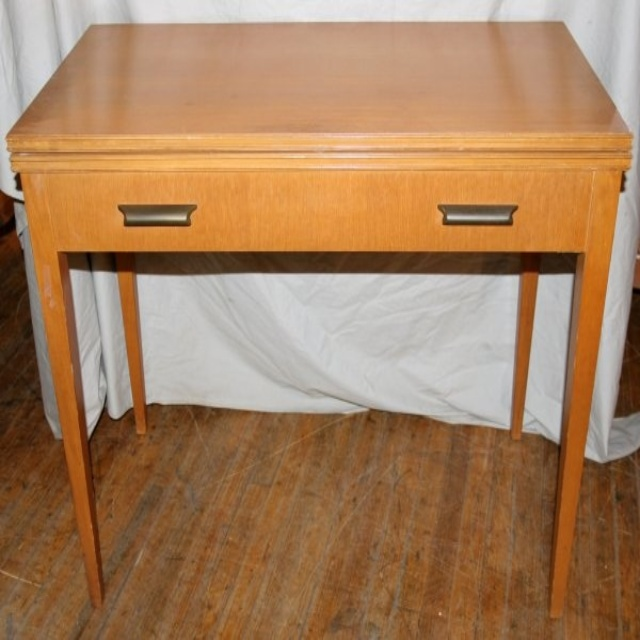obstacle: (7, 22, 630, 615)
